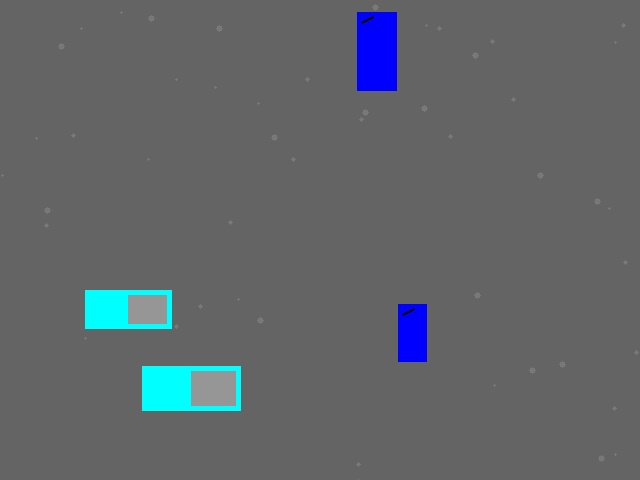motorcycle: (357, 12, 396, 90), (398, 304, 426, 361)
truck: (142, 366, 240, 410), (85, 290, 171, 328)
